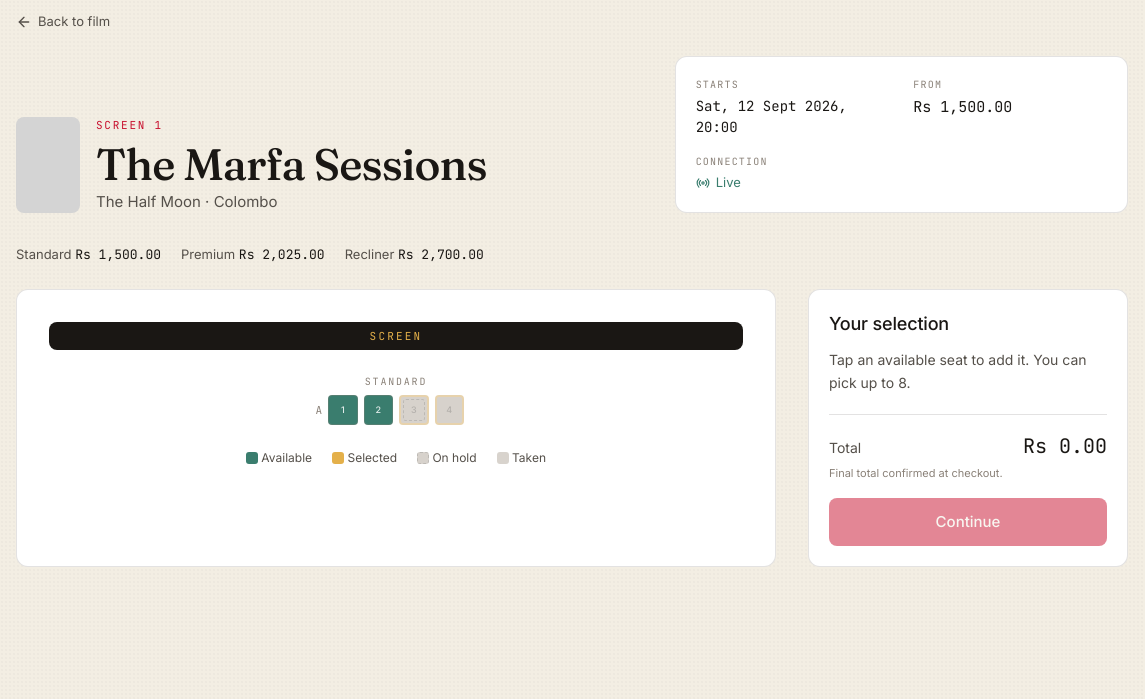
Test case: ShowtimePage › shows the verify-email prompt on EMAIL_NOT_VERIFIED (403) and lets the user resend
The width and height of the screenshot is (1145, 699).
Click the button "1" at (343, 410), box [328,395,358,425]
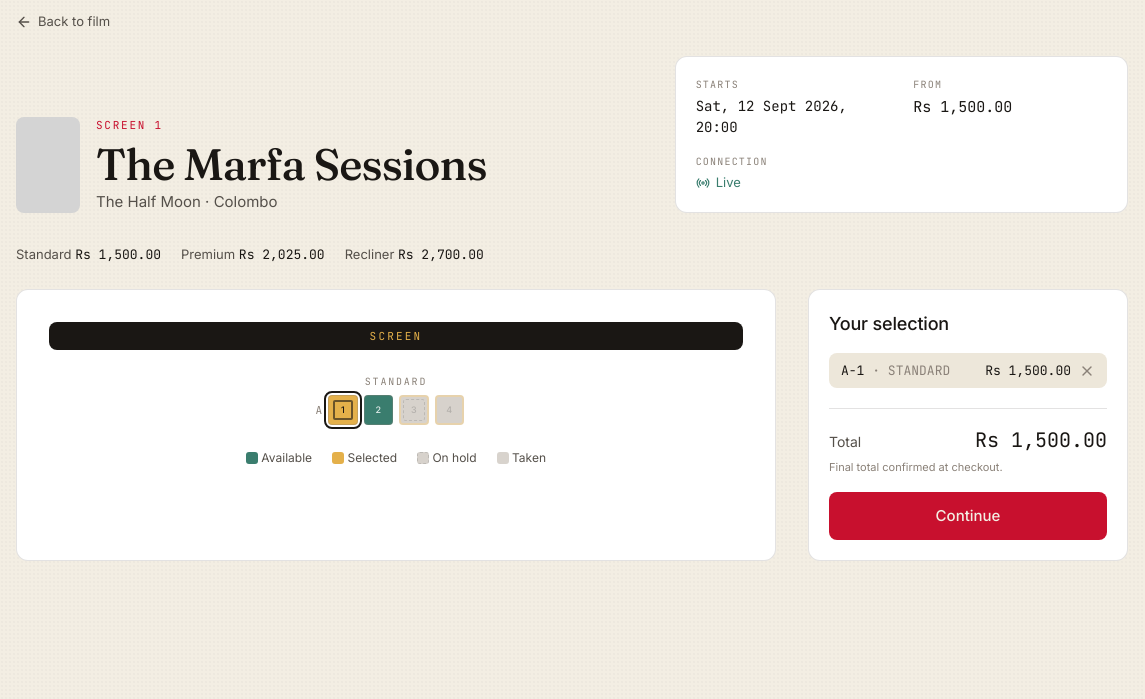
Click the button "Continue" at (968, 516), box [829,492,1107,540]
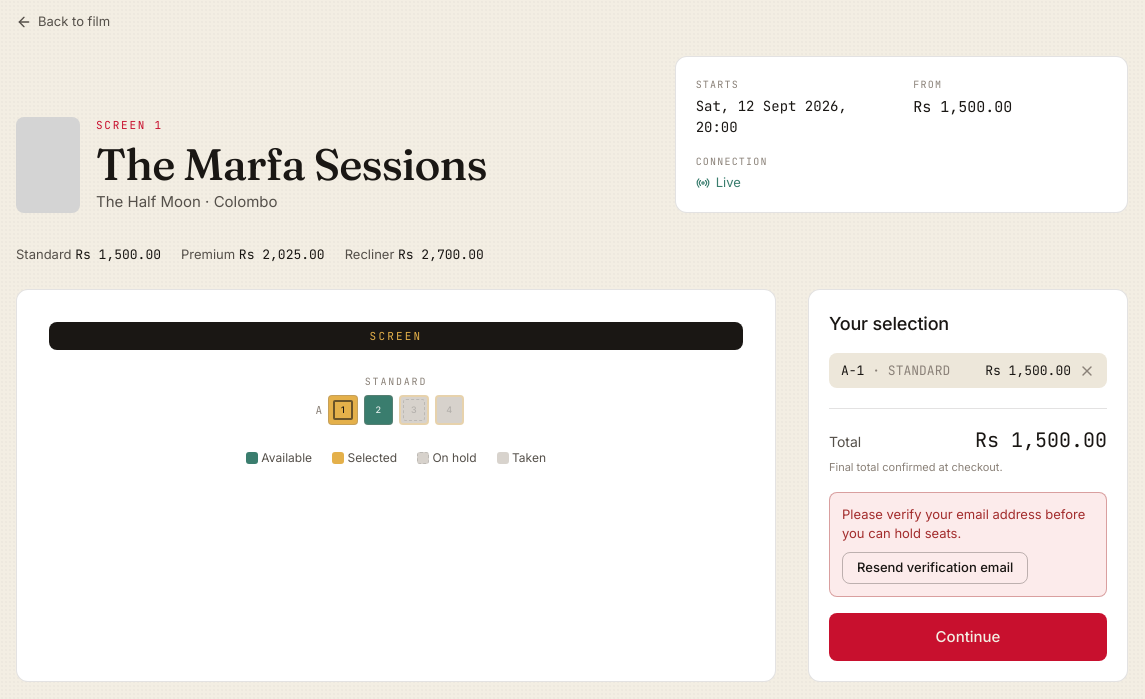
Result: the message shows "verify your email address" at [842,506,1085,541]
Click the button "Resend verification email" at (935, 568), box [842,552,1028,584]
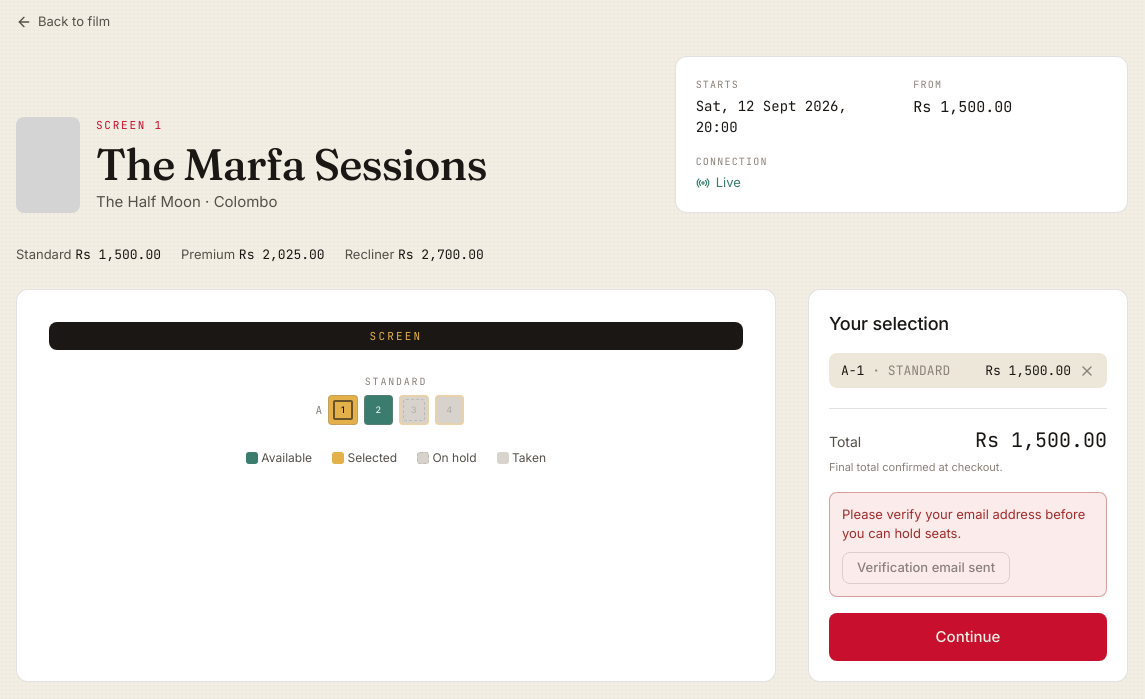
Result: the button "Verification email sent" is disabled at [842,552,1010,584]
